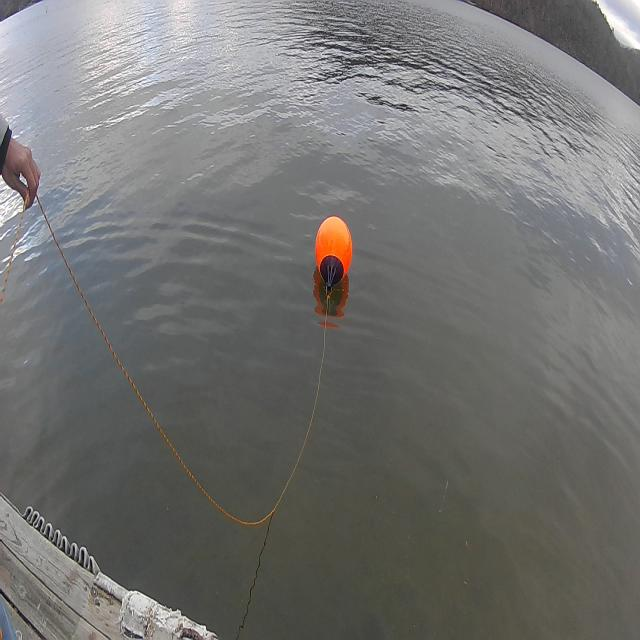Buoy: (310, 206, 360, 300)
